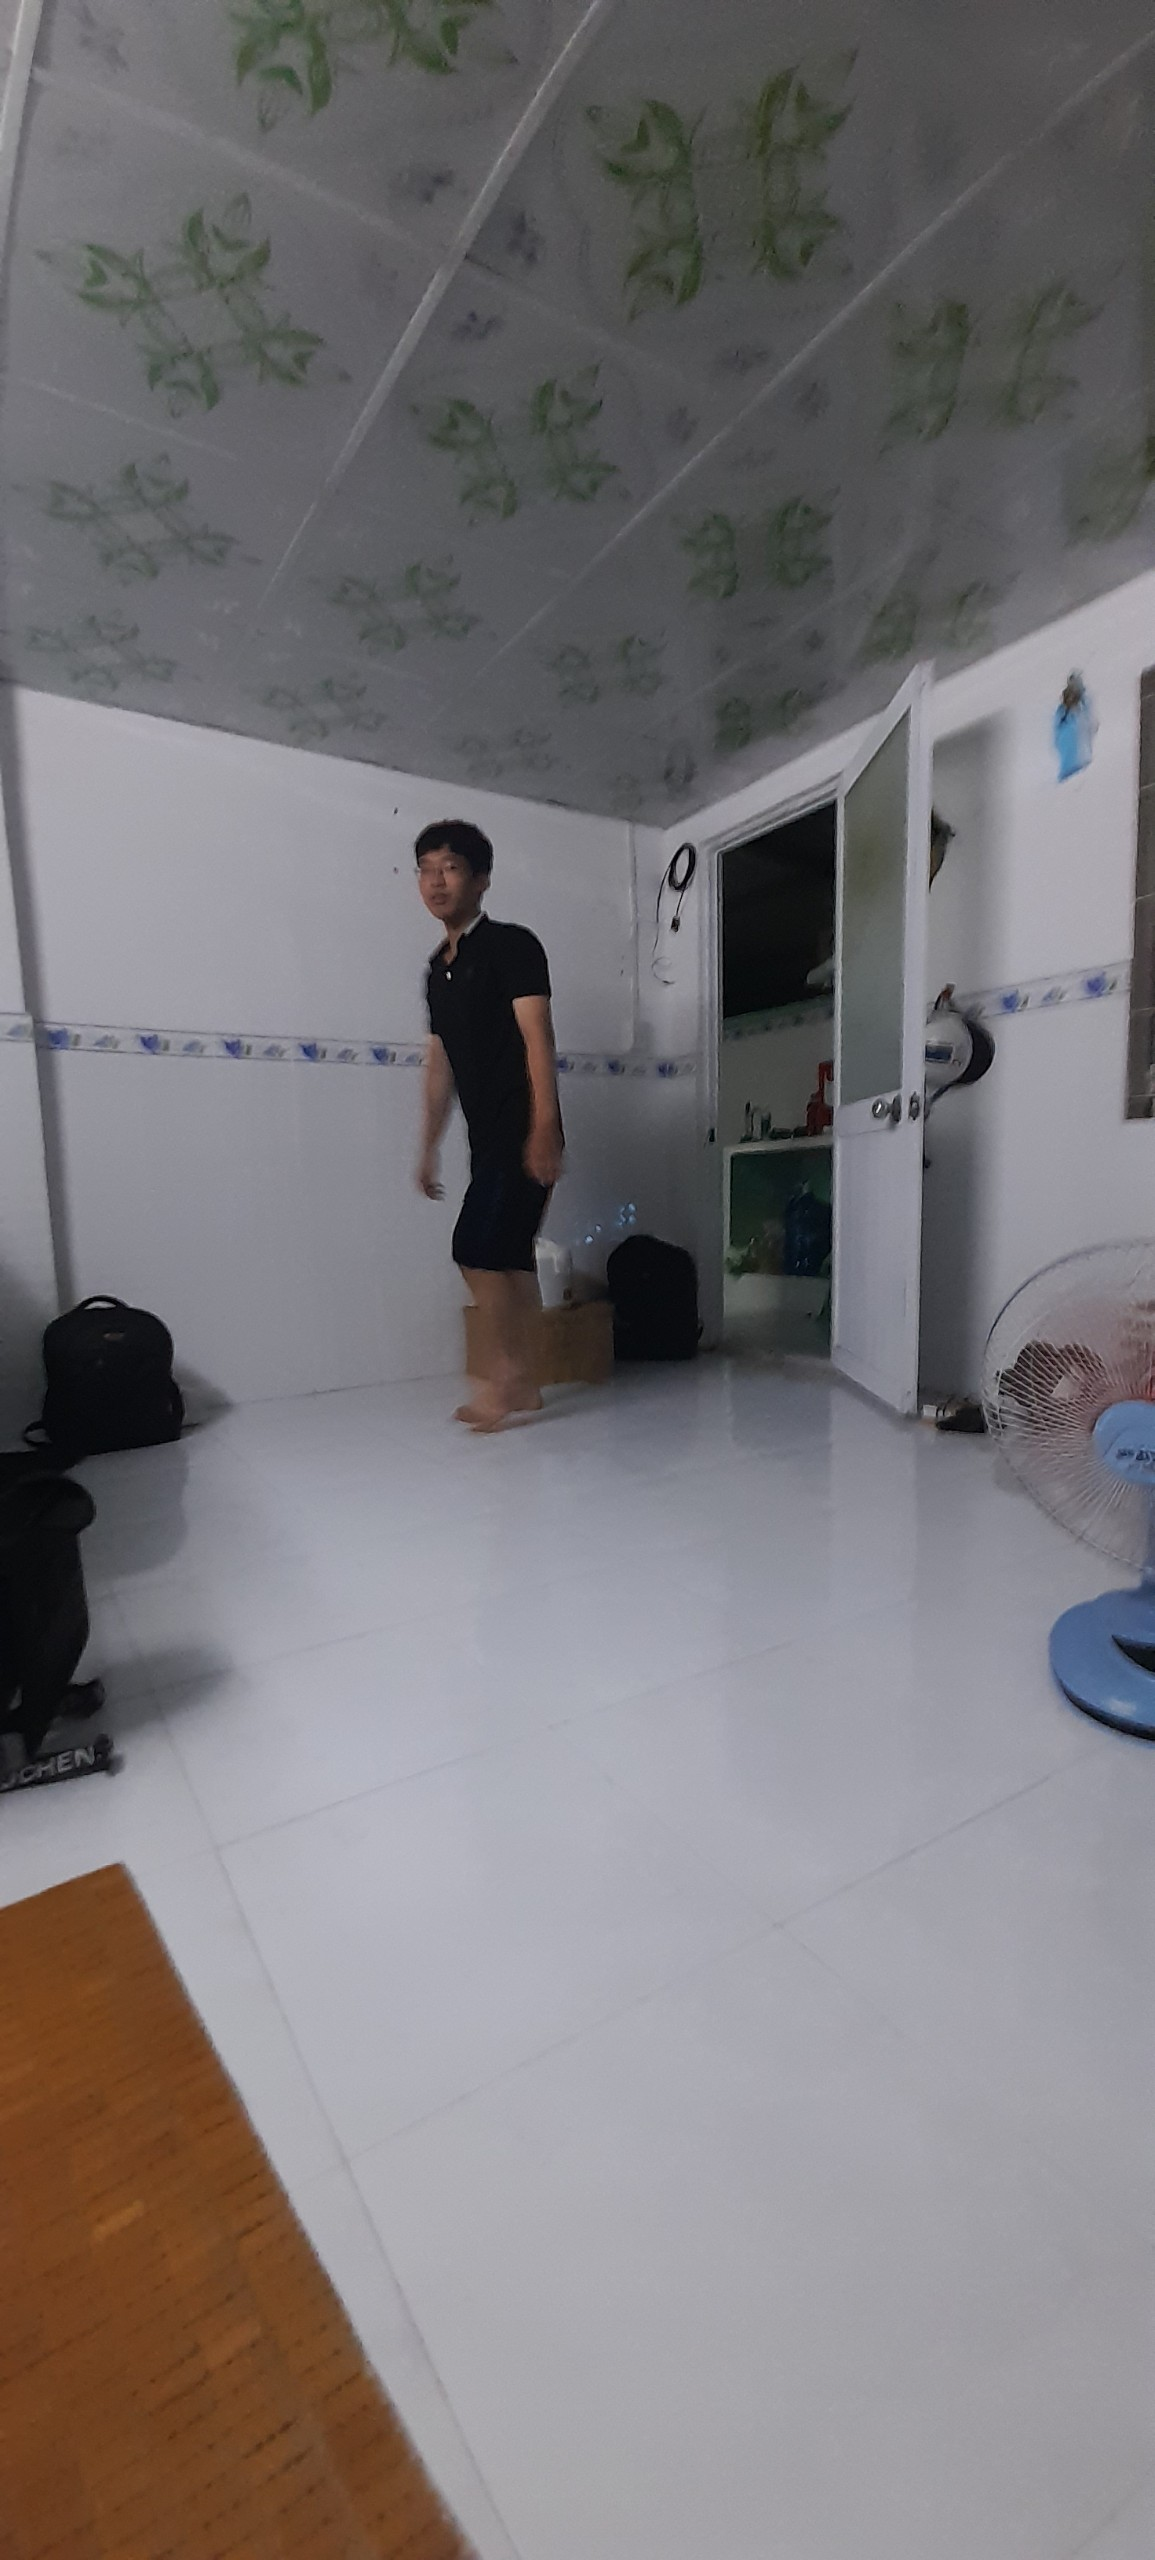person: (419, 825, 568, 1430)
